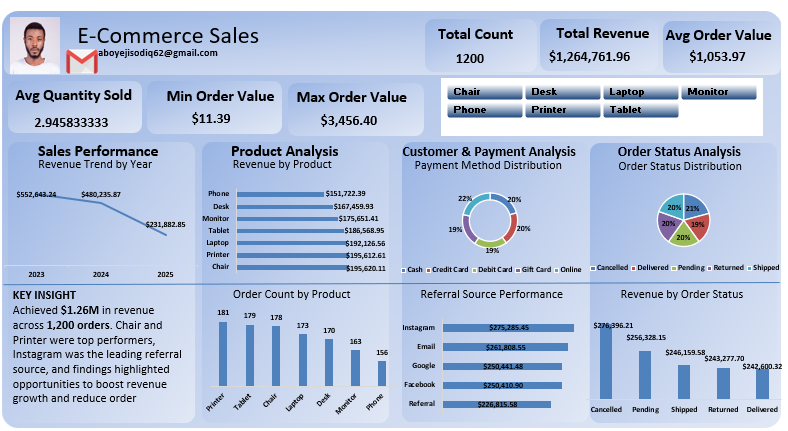

The page's visual inventory and layout, read from the dashboard file:
{"tool":"powerbi","page":{"name":"Page 1","canvas":[1280,720],"ordinal":0},"visuals":[{"type":"card","fields":{"Values":["DAX TABLE.Total Order"]},"box":[0,191.7,151.7,75],"z":0},{"type":"card","fields":{"Values":["DAX TABLE.Total Revenue"]},"box":[0,266.7,151.7,75],"z":1000},{"type":"card","fields":{"Values":["DAX TABLE.Avg Order Value"]},"box":[0,345,151.7,75],"z":2000},{"type":"card","fields":{"Values":["DAX TABLE.Average Quatity"]},"box":[0,420,151.7,75],"z":3000},{"type":"card","fields":{"Values":["DAX TABLE.Highest Order Value"]},"box":[0,495,151.7,75],"z":4000},{"type":"card","fields":{"Values":["DAX TABLE.Lowest Order Value"]},"box":[0,570,151.7,75],"z":5000},{"type":"barChart","title":"Revenue by Product","fields":{"Category":["Sheet.Product"],"Y":["DAX TABLE.Total Revenue"]},"box":[151.7,191.7,308.3,235],"z":6000},{"type":"lineChart","title":"Revenue Trend","fields":{"Category":["Sheet.Date.Variation.Date Hierarchy.Year"],"Y":["DAX TABLE.Total Revenue"]},"box":[460,426.7,380,293.3],"z":7000},{"type":"donutChart","title":"Order Status Analysis","fields":{"Category":["Sheet.OrderStatus"],"Y":["DAX TABLE.Total Order"]},"box":[460,191.7,380,235],"z":8000},{"type":"columnChart","title":"Revenue by Payment Method","fields":{"Category":["Sheet.PaymentMethod"],"Y":["DAX TABLE.Total Revenue"]},"box":[151.7,426.7,308.3,293.3],"z":9000},{"type":"clusteredBarChart","title":"Orders by Referral Source","fields":{"Category":["Sheet.ReferralSource"],"Y":["DAX TABLE.Total Order"]},"box":[953.3,0,298.3,191.7],"z":10000},{"type":"tableEx","title":"Product Performance","fields":{"Values":["Sheet.Product","DAX TABLE.Total Order","DAX TABLE.Total Revenue","DAX TABLE.Avg Order Value"]},"box":[840,191.7,411.7,235],"z":11000},{"type":"tableEx","title":"Top 10 Highest Orders","fields":{"Values":["Sheet.OrderID","Sheet.Product","Sheet.CustomerID","DAX TABLE.Total Revenue"]},"box":[840,426.7,411.7,293.3],"z":12000},{"type":"card","fields":{"Values":["DAX TABLE.Total Customers"]},"box":[0,645,151.7,75],"z":13000},{"type":"slicer","fields":{"Values":["Sheet.Product"]},"box":[808.3,0,145,60],"z":14000},{"type":"slicer","fields":{"Values":["Sheet.Date.Variation.Date Hierarchy.Month"]},"box":[808.3,131.7,145,60],"z":15000},{"type":"slicer","fields":{"Values":["Sheet.OrderStatus"]},"box":[808.3,66.7,145,60],"z":16000},{"type":"image","box":[0,6.7,165,178.3],"z":17000},{"type":"textbox","box":[165,6.7,643.3,170],"z":18000},{"type":"image","box":[336.7,126.7,60,50],"z":19000},{"type":"image","box":[165,126.7,60,50],"z":20000},{"type":"image","box":[165,66.7,60,50],"z":21000}]}

Visuals, with their boxes in screenshot pixels (x1, y1, x2, y2), scaled from the page's 1280x720 canvas onto the 788x431 screenshot:
card - DAX TABLE.Total Order: (0,115,93,160)
card - DAX TABLE.Total Revenue: (0,160,93,205)
card - DAX TABLE.Avg Order Value: (0,207,93,251)
card - DAX TABLE.Average Quatity: (0,251,93,296)
card - DAX TABLE.Highest Order Value: (0,296,93,341)
card - DAX TABLE.Lowest Order Value: (0,341,93,386)
"Revenue by Product" barChart: (93,115,283,255)
"Revenue Trend" lineChart: (283,255,517,430)
"Order Status Analysis" donutChart: (283,115,517,255)
"Revenue by Payment Method" columnChart: (93,255,283,430)
"Orders by Referral Source" clusteredBarChart: (587,0,771,115)
"Product Performance" tableEx: (517,115,771,255)
"Top 10 Highest Orders" tableEx: (517,255,771,430)
card - DAX TABLE.Total Customers: (0,386,93,430)
slicer - Sheet.Product: (498,0,587,36)
slicer - Sheet.Date.Variation.Date Hierarchy.Month: (498,79,587,115)
slicer - Sheet.OrderStatus: (498,40,587,76)
image: (0,4,102,111)
textbox: (102,4,498,106)
image: (207,76,244,106)
image: (102,76,139,106)
image: (102,40,139,70)
